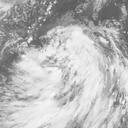cyclone: (12, 27, 115, 100)
